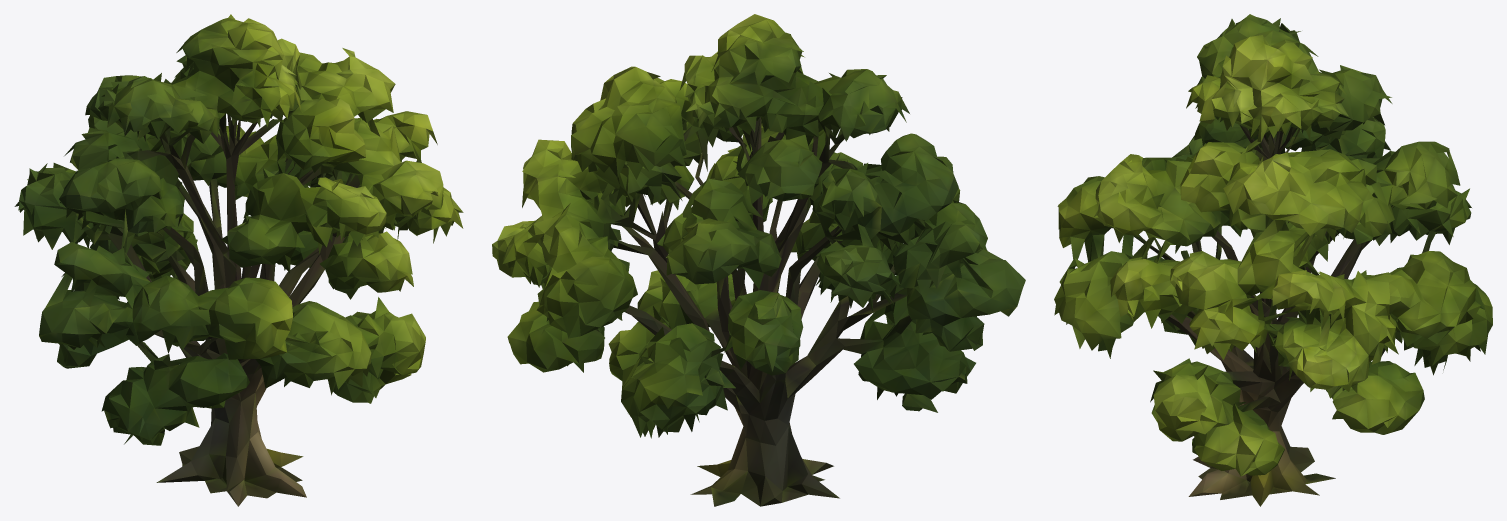
File: deciduous-high.glb
3 views of the same model, side by side, from view 1: azimuth 30°, elevation 25°; view 2: azimuth 150°, elevation 25°; view 3: azimuth 270°, elevation 25° (orthographic). The views are drawn at different scales.
Visible parts, largest first — view 1: tripo_node_72955114-6c34-4a34-97dd-ddf513660c4f; view 2: tripo_node_72955114-6c34-4a34-97dd-ddf513660c4f; view 3: tripo_node_72955114-6c34-4a34-97dd-ddf513660c4f.
Part boxes in pixels (x1,y1,x2,y2): tripo_node_72955114-6c34-4a34-97dd-ddf513660c4f: [14, 14, 463, 506]; tripo_node_72955114-6c34-4a34-97dd-ddf513660c4f: [492, 14, 1025, 506]; tripo_node_72955114-6c34-4a34-97dd-ddf513660c4f: [1054, 14, 1492, 506].
Size of the model in its own units: 0.9704 by 0.9402 by 0.8381.
Materials: 1 (1 with a texture image).
